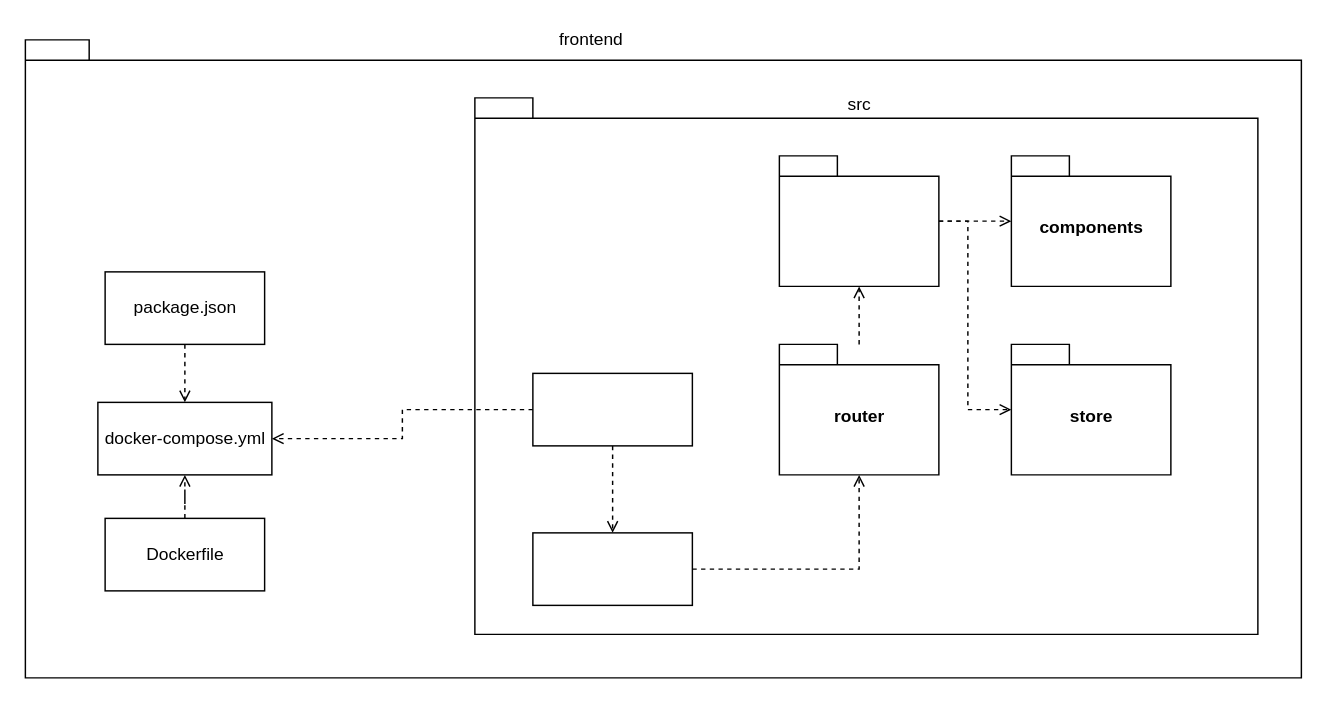
Some shapes in this 1327 by 703 pixel diagram are drawn without their labels. The shapes that lost their labels are listed below. From the top down, each one's box as (x1, y1, x2, y2) in pixels, then its label:
(778, 154, 939, 286): views
(531, 372, 692, 446): main.js
(531, 531, 692, 605): app.vue
